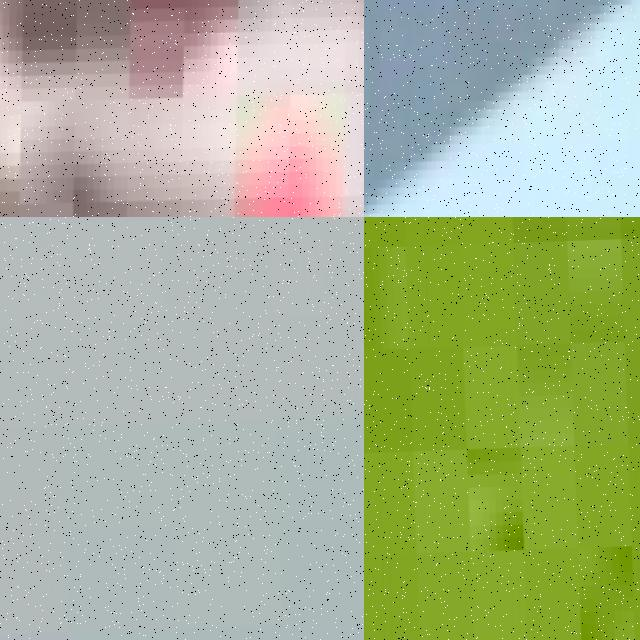0: (0, 0, 364, 217)
drone: (364, 0, 640, 217)
